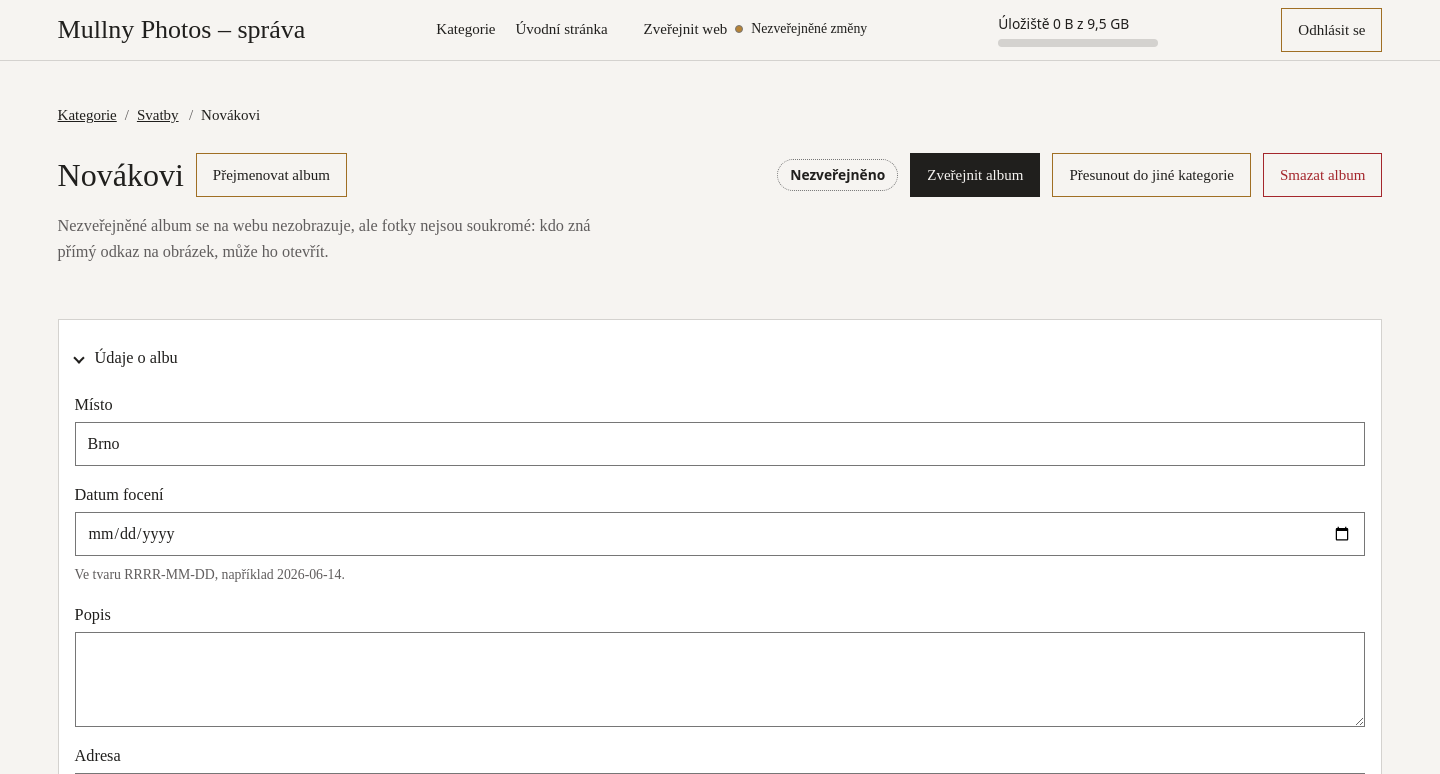
Scenario: screen › moving to another category updates the breadcrumb
expect the heading "Novákovi" is shown: met, box [58,156,184,194]
expect the field labelled "Místo" is shown: met, box [75,422,1365,466]
Click the button "Přesunout do jiné kategorie".
click(1152, 175)  # box [1052,153,1251,197]
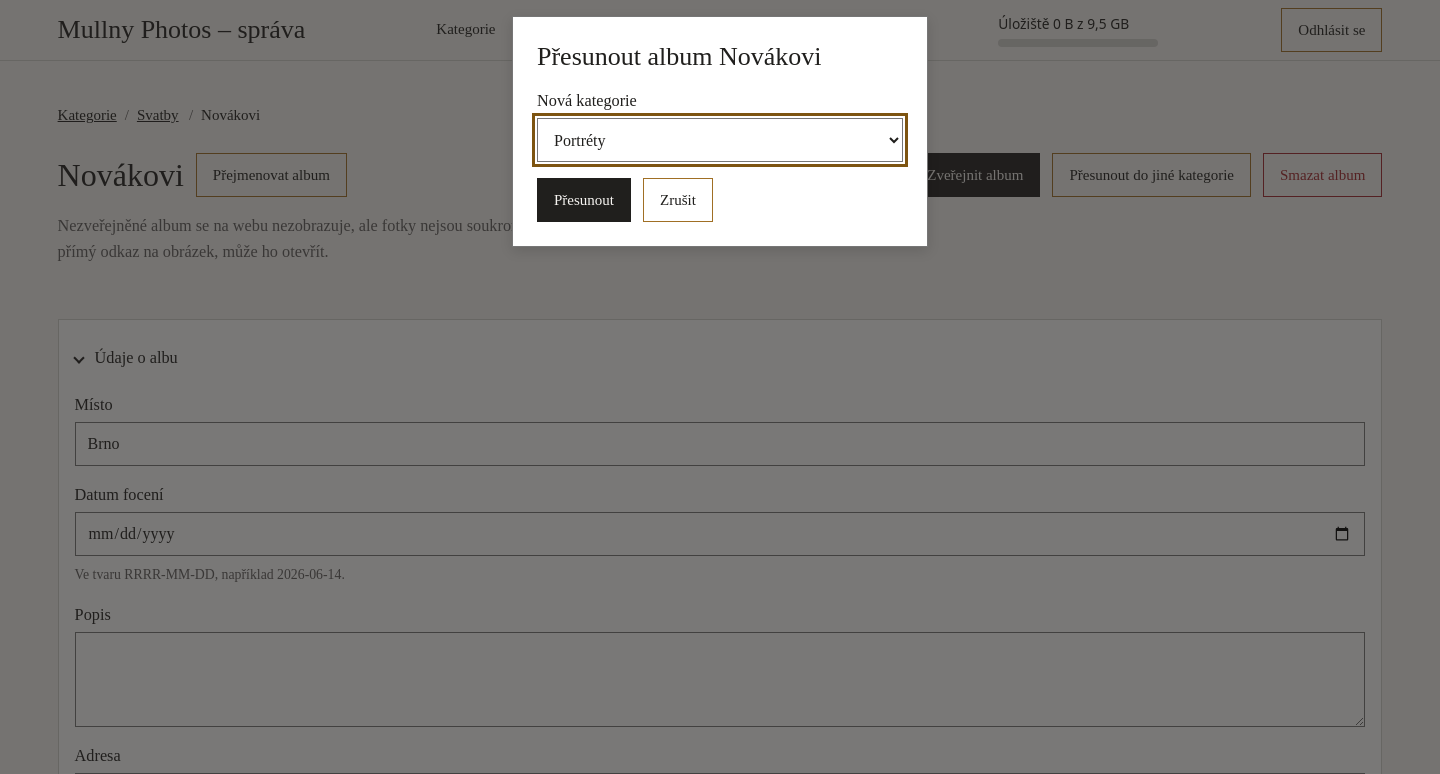
Click the button "Přesunout".
click(584, 200)  # box [537,178,631,222]
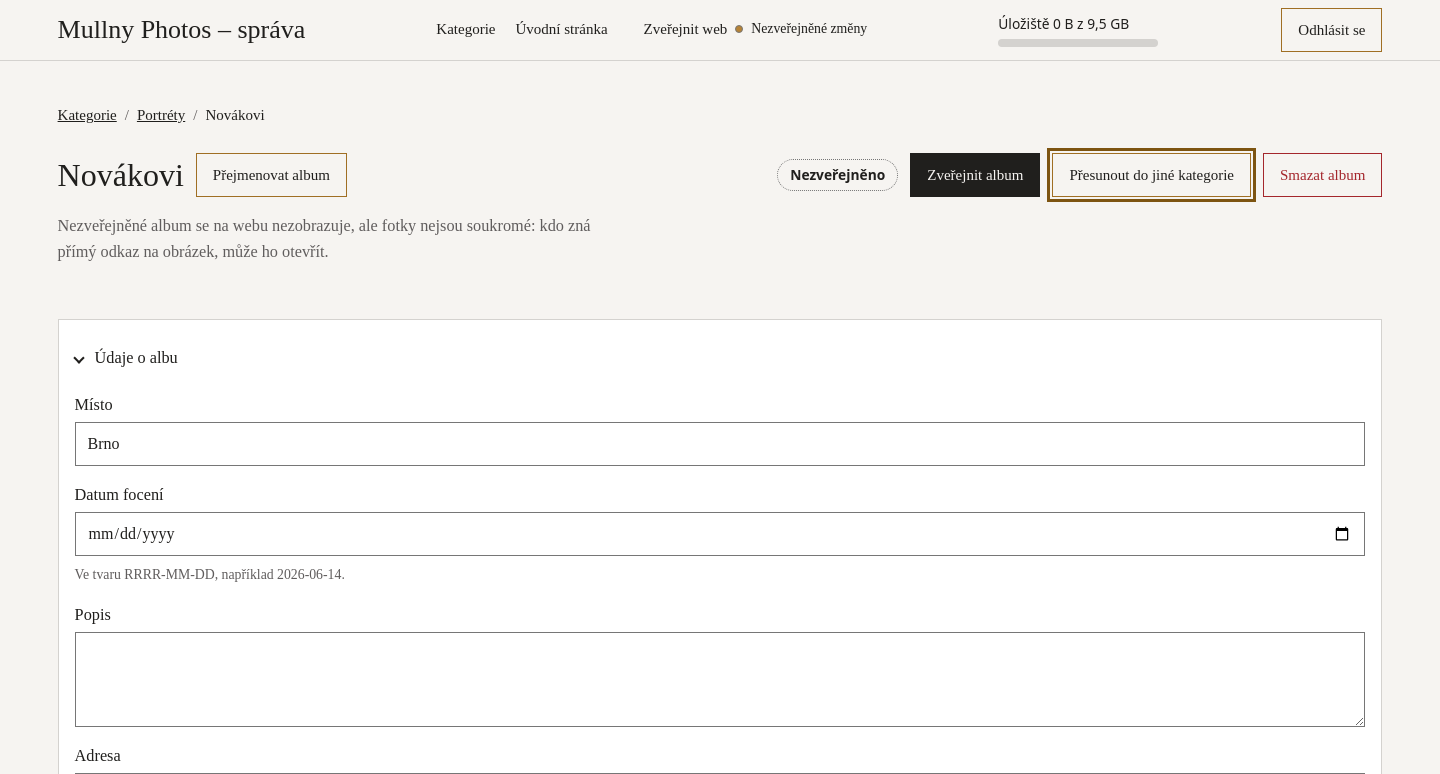
expect the dialog is gone: met
expect the link "Svatby" is gone: met
